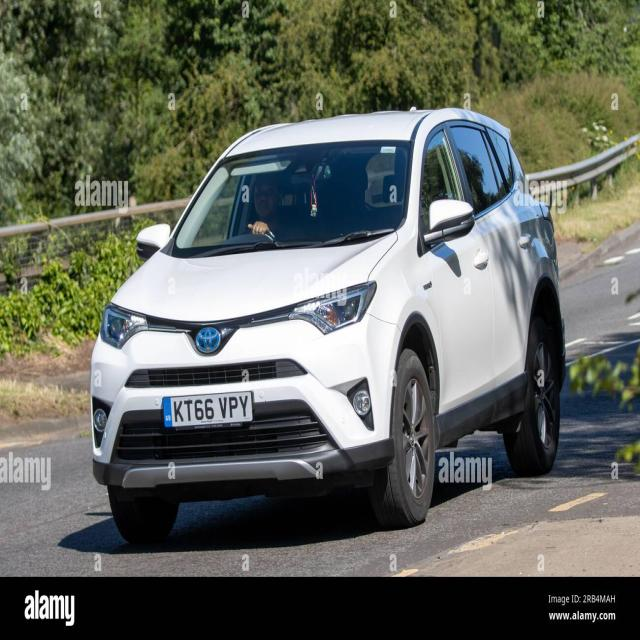light_vehicle: (88, 106, 567, 544)
